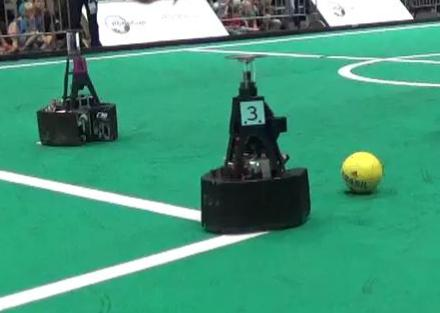robot: (196, 48, 313, 236), (32, 27, 121, 147)
